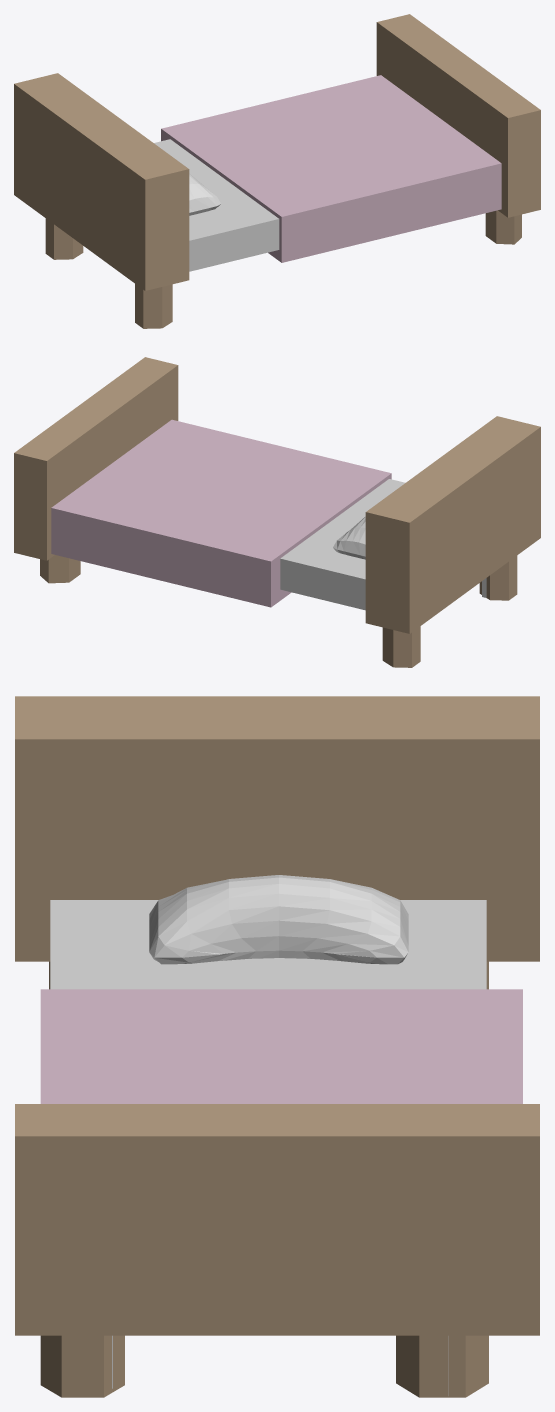
File: Copy of bed.glb
3 views of the same model, one above another, from view 1: azimuth 30°, elevation 25°; view 2: azimuth 150°, elevation 25°; view 3: azimuth 270°, elevation 25° (orthographic). The views are drawn at different scales.
Visible parts, largest first — view 1: Mesh_Mesh_head_geo.001_lambert2SG.001; view 2: Mesh_Mesh_head_geo.001_lambert2SG.001; view 3: Mesh_Mesh_head_geo.001_lambert2SG.001.
Boxes of the visible parts, left/top/right/bottom form: Mesh_Mesh_head_geo.001_lambert2SG.001: left=14, top=14, right=540, bottom=328; Mesh_Mesh_head_geo.001_lambert2SG.001: left=14, top=357, right=540, bottom=667; Mesh_Mesh_head_geo.001_lambert2SG.001: left=15, top=696, right=539, bottom=1397.
Size of the model in its own units: 0.108 by 0.042 by 0.062.
